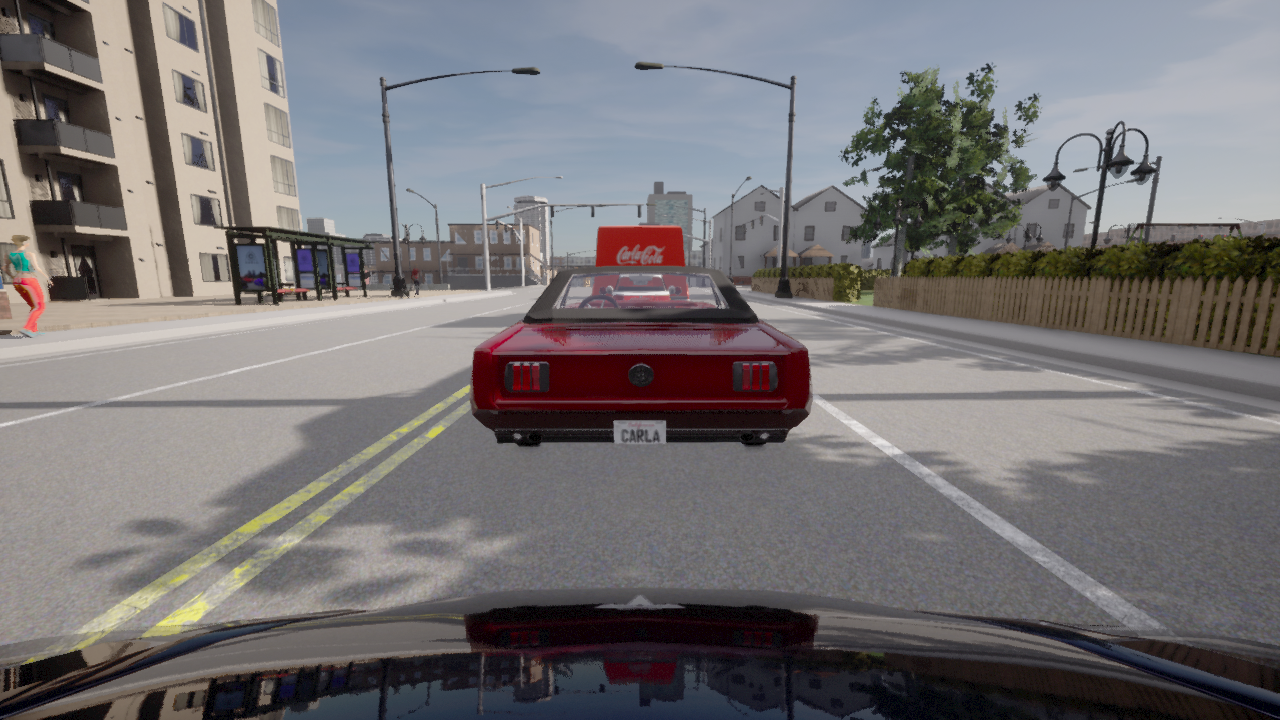cyclist: (0, 588, 1279, 719), (469, 266, 812, 445), (595, 226, 684, 266)
pedestrian: (2, 234, 53, 338), (411, 263, 423, 298)
